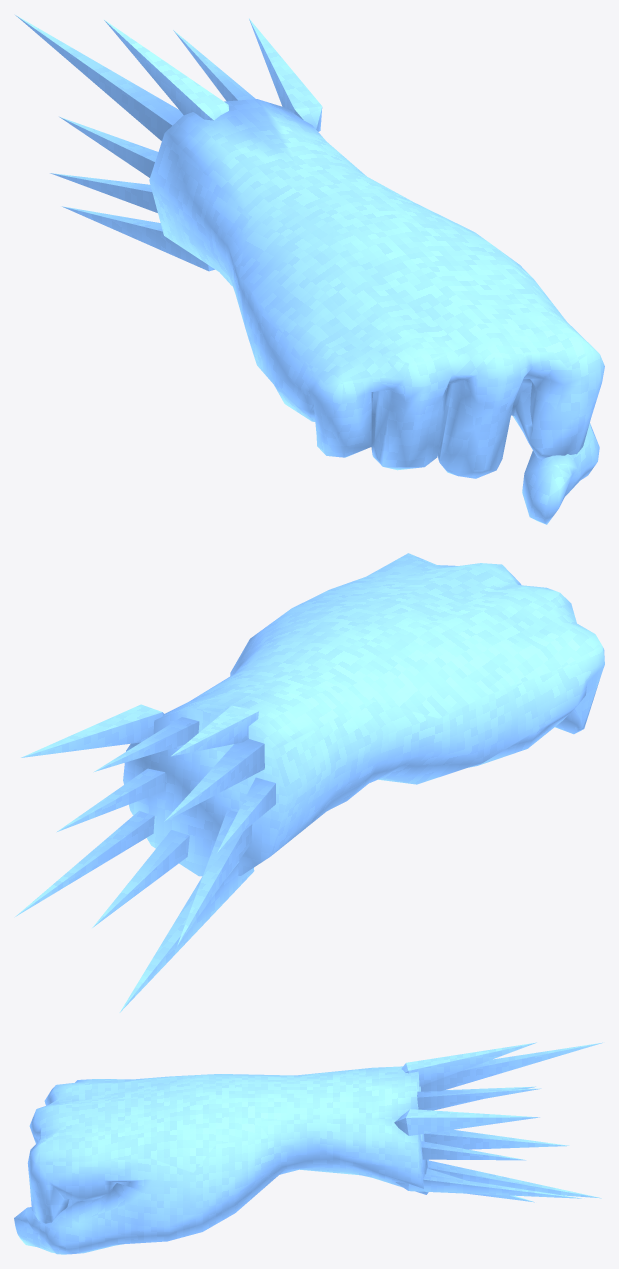
File: projectile_fist.glb
3 renders of one model, top to bottom at view 1: azimuth 30°, elevation 25°; view 2: azimuth 150°, elevation 25°; view 3: azimuth 270°, elevation 25°, orthographic. The views are drawn at different scales.
Visible parts, largest first — view 1: Fist; view 2: Fist; view 3: Fist.
Part boxes in pixels (<box>): Fist: <box>15,15,604,524</box>; Fist: <box>14,553,604,1012</box>; Fist: <box>14,1042,602,1254</box>.
Bounding box in the file's own units: 0.0904 × 0.0757 × 0.2268.
1 material, 1 textured.
